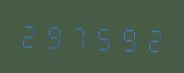five: (90, 19, 113, 53)
nine: (41, 18, 64, 52), (114, 20, 137, 54)
seven: (66, 19, 89, 52)
two: (17, 17, 40, 51), (138, 21, 161, 55)
